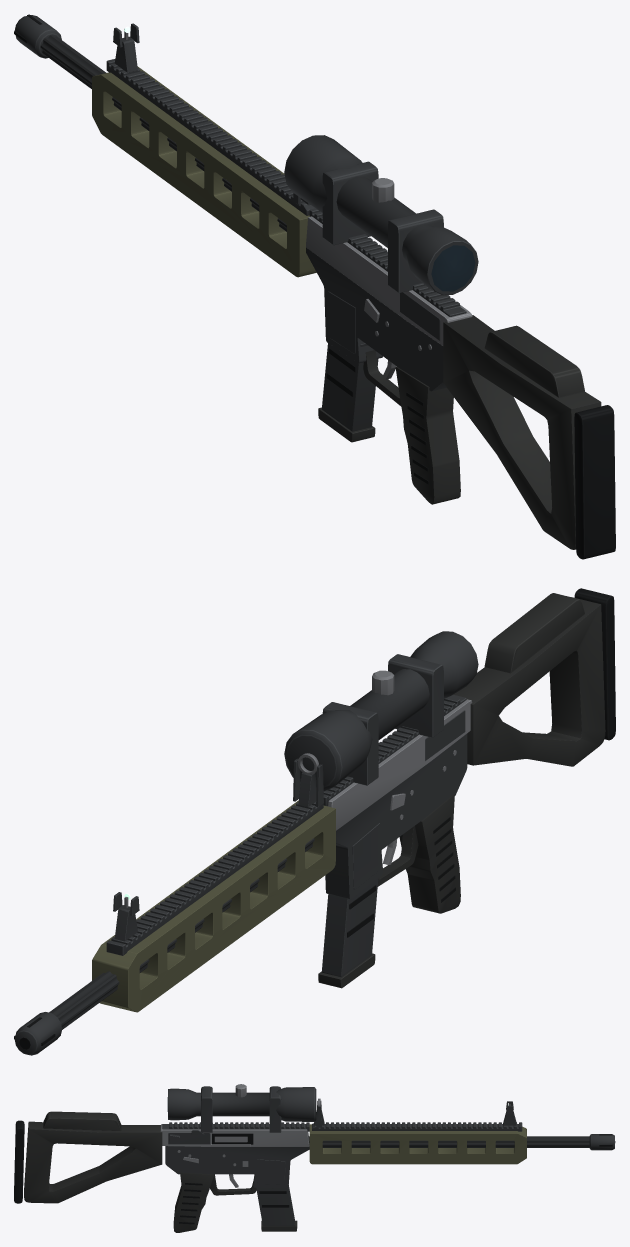
The model's file is rifle.glb.
The picture shows the model from 3 angles, top to bottom: view 1: azimuth 30°, elevation 25°; view 2: azimuth 150°, elevation 25°; view 3: azimuth 270°, elevation 25°; orthographic projection. The views are drawn at different scales.
Parts seen in each view (by area): view 1: Body, ThirdPersonOnly, IronSight, Cell; view 2: Body, ThirdPersonOnly, IronSight, Cell; view 3: Body, ThirdPersonOnly, IronSight, Cell.
Boxes of the visible parts, left/top/right/bottom form: Body: left=14, top=14, right=472, bottom=504; ThirdPersonOnly: left=443, top=315, right=615, bottom=559; IronSight: left=113, top=23, right=478, bottom=295; Cell: left=318, top=343, right=378, bottom=442; Body: left=14, top=694, right=472, bottom=1055; ThirdPersonOnly: left=453, top=588, right=615, bottom=766; IronSight: left=113, top=631, right=478, bottom=941; Cell: left=318, top=878, right=378, bottom=988; Body: left=160, top=1122, right=615, bottom=1232; ThirdPersonOnly: left=14, top=1111, right=162, bottom=1203; IronSight: left=167, top=1084, right=516, bottom=1132; Cell: left=254, top=1174, right=297, bottom=1231.
Bounding box in the file's own units: 0.072 × 0.3243 × 1.23.
